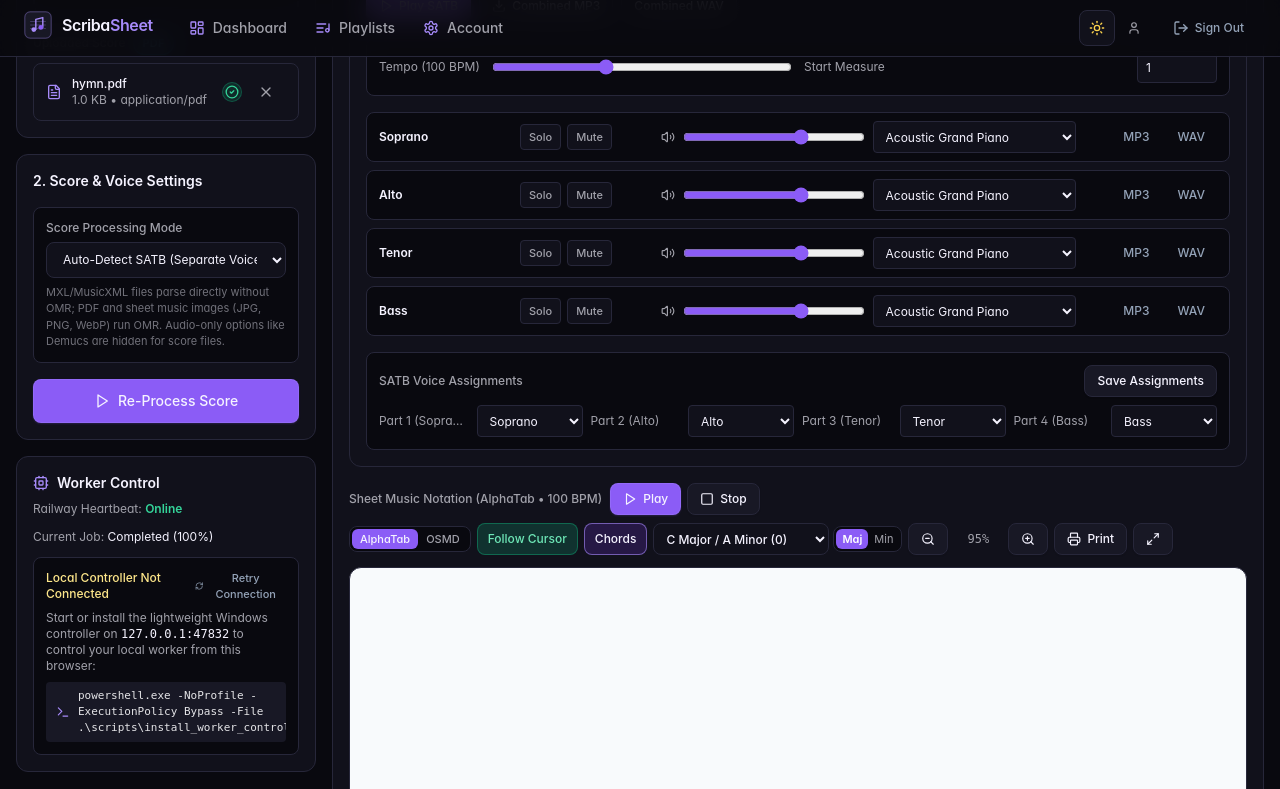
Test: Re-Processing Clean State & Stale Job Protection › clears previous SATB score, stops playback, ignores stale job-2, and loads only job-3 on completion
(page scrolled)
What coordinates should you click on to do the following:
click the button "Re-Process Score"
I would click on:
 (166, 400)
Its box is [33, 378, 299, 422].
(page scrolled)
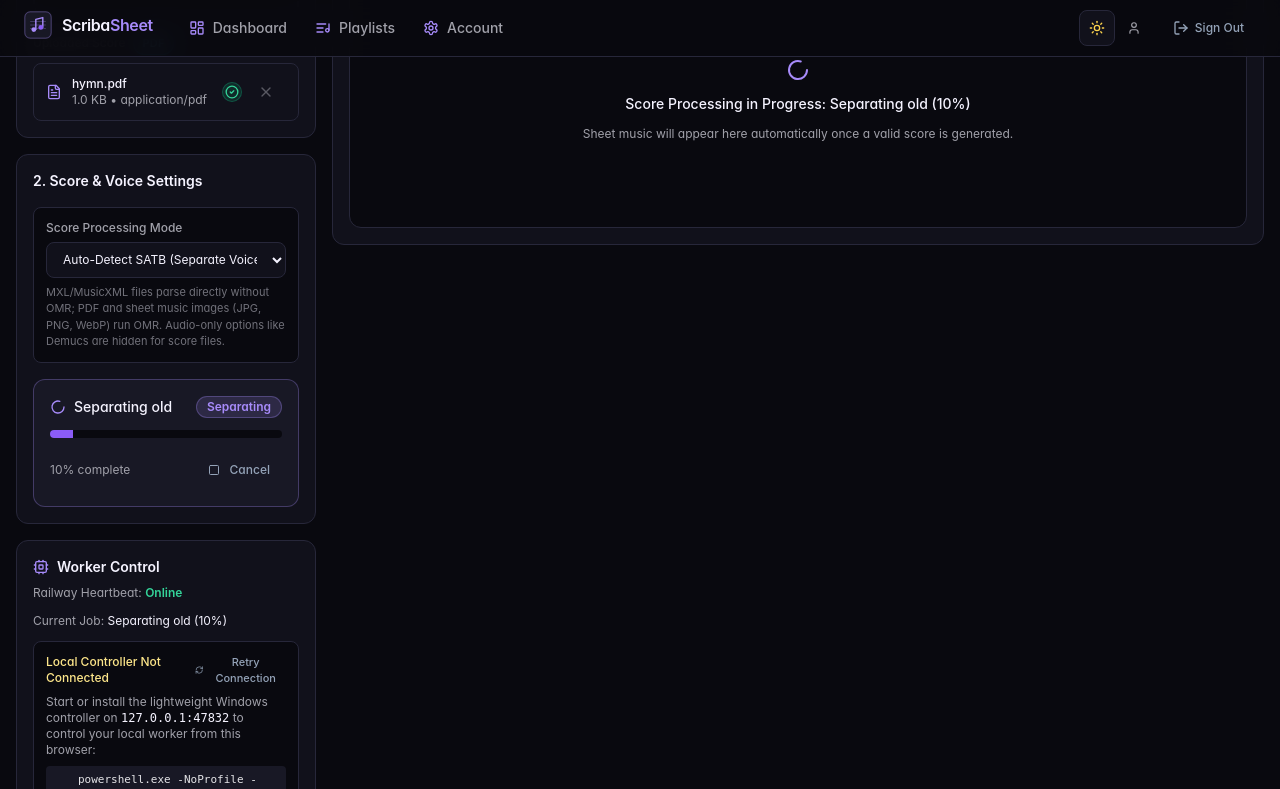
Expected: the text "Separating old (10%)" is shown, [108, 612, 227, 628]
Note: Cancel job-2 and immediately start job-3
What coordinates should you click on to do the following:
click the button "Cancel"
I would click on:
 (239, 470)
Its box is [196, 450, 282, 490].
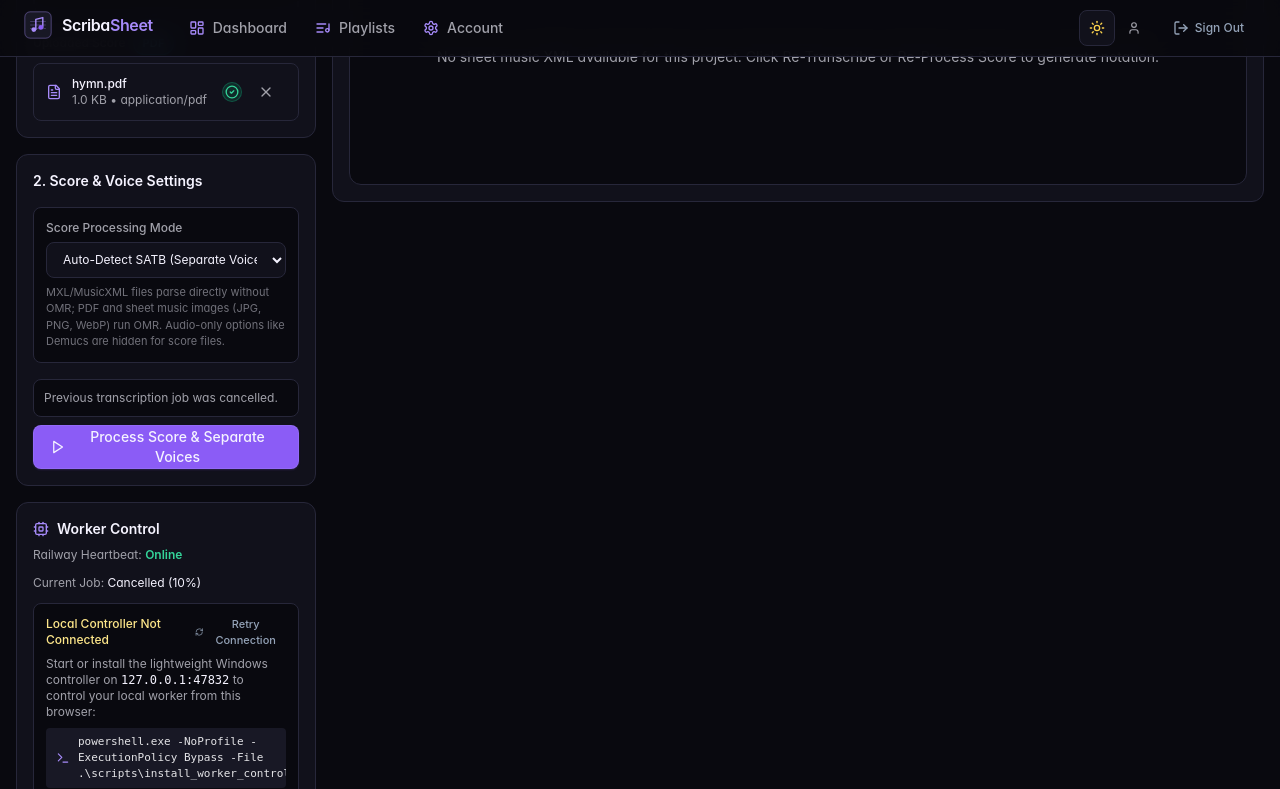
Expected: the button "Process Score & Separate Voices" is shown
What coordinates should you click on to do the following:
click the button "Process Score & Separate Voices"
I would click on:
 (166, 446)
Its box is [33, 424, 299, 468].
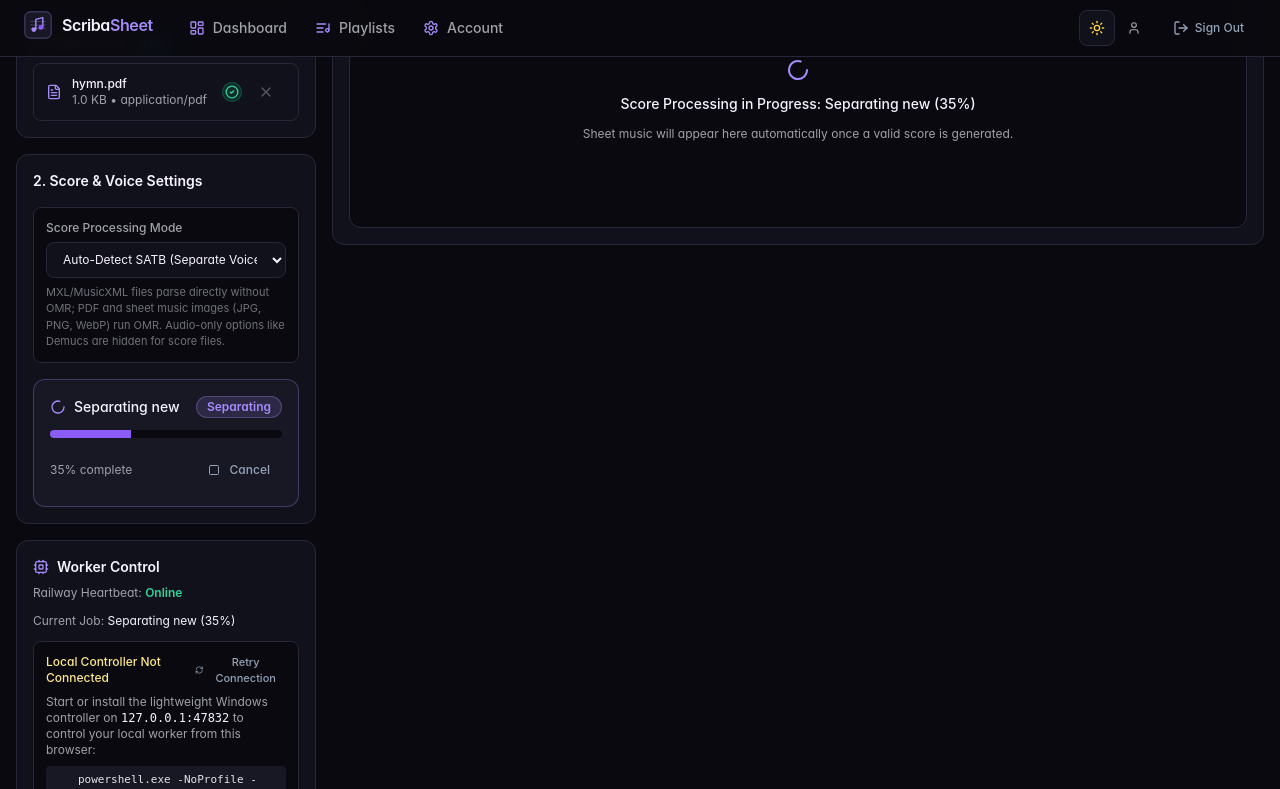
Expected: the text "Separating new (35%)" is shown, [108, 612, 235, 628]
